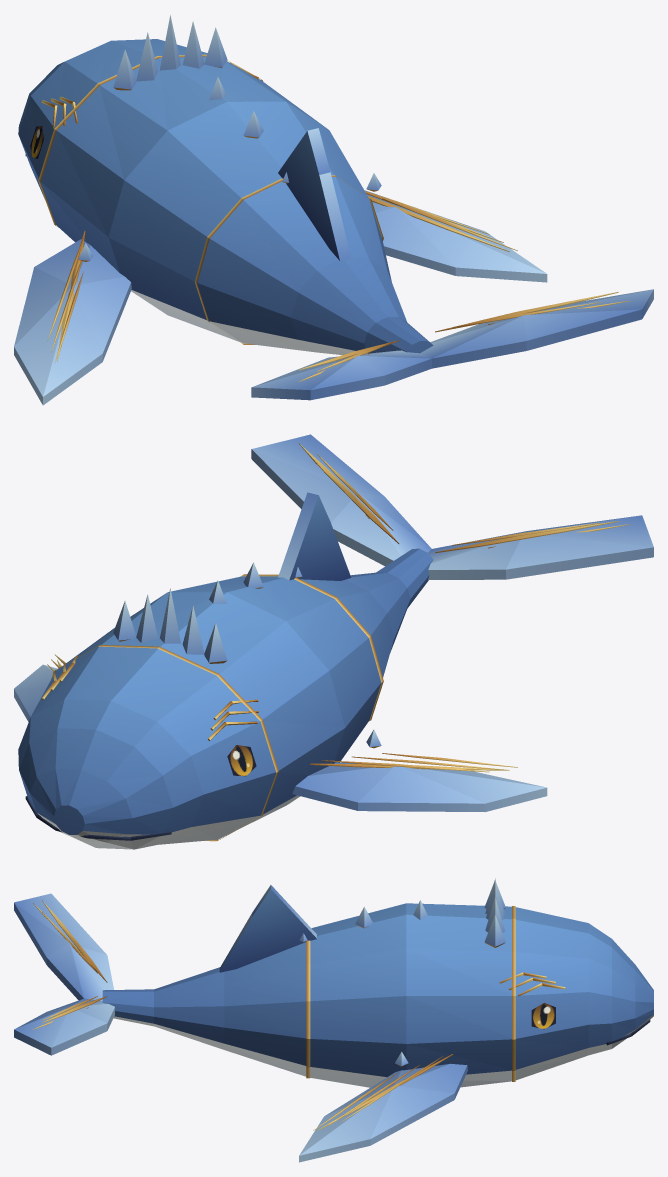
File: SkyWhale_S9RoyalReview.obj
3 views of the same model, one above another, from view 1: azimuth 30°, elevation 25°; view 2: azimuth 150°, elevation 25°; view 3: azimuth 270°, elevation 25° (orthographic). The views are drawn at different scales.
Visible parts, largest first — view 1: WhaleBody, LeftPectoralFin, RightTailFluke, RightPectoralFin, LeftTailFluke, DorsalFin, RoyalHarness6, RoyalHarness4, S9CrownCrystal2, S9CrownCrystal1, S9CrownCrystal3, RightTailGoldInlay; view 2: WhaleBody, LeftPectoralFin, RightTailFluke, LeftTailFluke, DorsalFin, RightPectoralFin, RoyalHarness4, LeftEye, LeftTailGoldInlay, S9CrownCrystal2, RoyalHarness6, RightTailGoldInlay (+1 smaller); view 3: WhaleBody, RightPectoralFin, LeftTailFluke, DorsalFin, RightTailFluke, RoyalHarness4, RoyalHarness6, RightEye.
Boxes of the visible parts, x1,y1,x2,y2 form: WhaleBody: [18, 39, 433, 354]; LeftPectoralFin: [14, 239, 131, 405]; RightTailFluke: [420, 289, 653, 368]; RightPectoralFin: [364, 190, 547, 282]; LeftTailFluke: [251, 350, 431, 400]; DorsalFin: [278, 128, 351, 261]; RoyalHarness6: [195, 175, 383, 344]; RoyalHarness4: [38, 54, 262, 227]; S9CrownCrystal2: [159, 15, 180, 70]; S9CrownCrystal1: [136, 32, 158, 81]; S9CrownCrystal3: [182, 21, 204, 68]; RightTailGoldInlay: [435, 292, 618, 332]; WhaleBody: [18, 548, 433, 849]; LeftPectoralFin: [292, 762, 547, 811]; RightTailFluke: [251, 434, 431, 566]; LeftTailFluke: [428, 515, 653, 579]; DorsalFin: [278, 492, 351, 580]; RightPectoralFin: [14, 664, 57, 721]; RoyalHarness4: [51, 645, 278, 841]; LeftEye: [227, 745, 256, 776]; LeftTailGoldInlay: [435, 521, 618, 552]; S9CrownCrystal2: [160, 588, 180, 643]; RoyalHarness6: [241, 574, 383, 721]; RightTailGoldInlay: [299, 443, 399, 543]; WhaleBody: [102, 903, 653, 1087]; RightPectoralFin: [299, 1063, 467, 1162]; LeftTailFluke: [14, 893, 113, 1000]; DorsalFin: [219, 885, 317, 972]; RightTailFluke: [14, 998, 114, 1055]; RoyalHarness4: [512, 906, 515, 1081]; RoyalHarness6: [306, 940, 310, 1078]; RightEye: [531, 1003, 555, 1029].
Bounding box in the file's own units: 137 × 67.45 × 192.
1 material, 1 textured.
